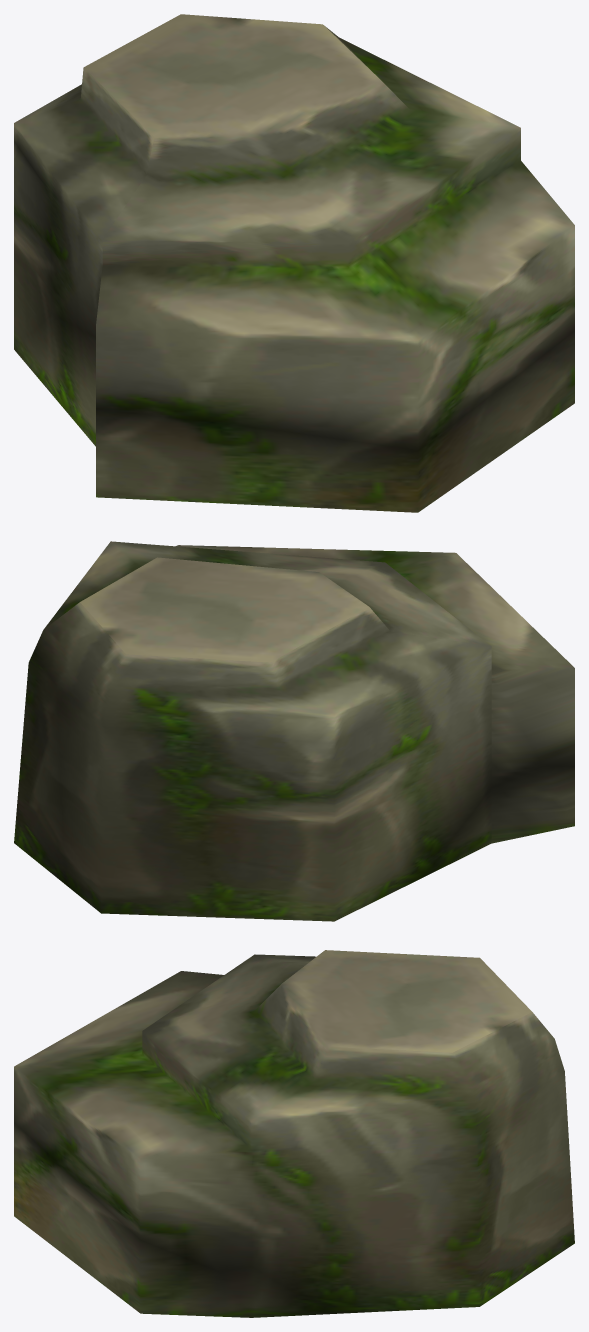
The model's file is RockFormation_4_5 (23).fbx.
3 renders of one model, top to bottom at view 1: azimuth 30°, elevation 25°; view 2: azimuth 150°, elevation 25°; view 3: azimuth 270°, elevation 25°, orthographic. The views are drawn at different scales.
Visible parts, largest first — view 1: RockFormation_4_5 (23); view 2: RockFormation_4_5 (23); view 3: RockFormation_4_5 (23).
Part boxes in pixels (left/top/right/bottom): RockFormation_4_5 (23): left=14, top=14, right=574, bottom=512; RockFormation_4_5 (23): left=14, top=541, right=574, bottom=921; RockFormation_4_5 (23): left=14, top=950, right=574, bottom=1317.
Size of the model in its own units: 1268 by 691 by 1524.
